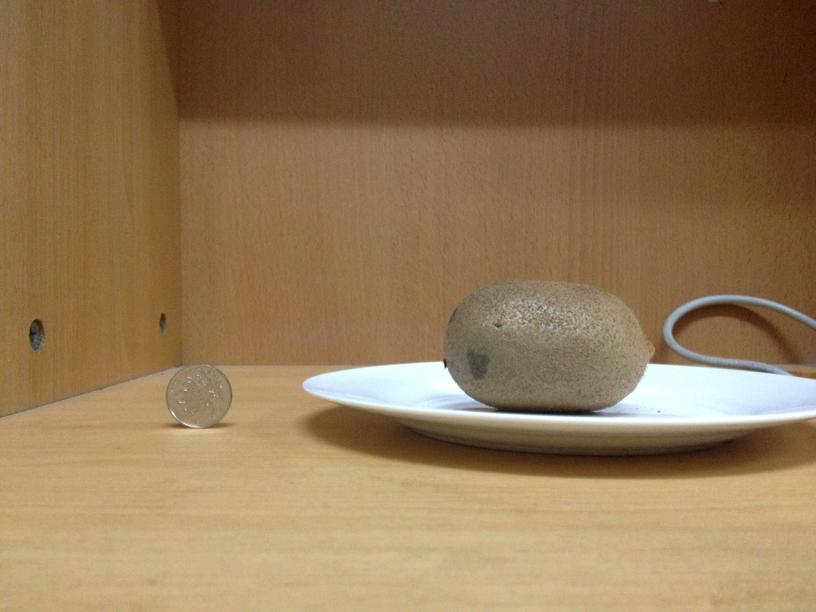coin: (162, 362, 234, 426)
qiwi: (434, 277, 653, 409)
